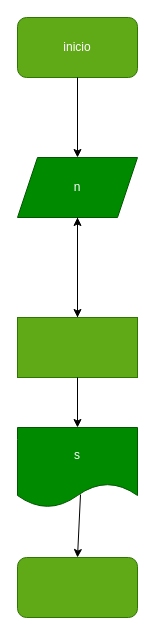
Some shapes in this 155 by 635 pixel diagram are drawn without their labels. The centre of each missing label's shape, as x and y in pixels:
fin: point 77,587
s=(n(n+1))/2: point 77,347
